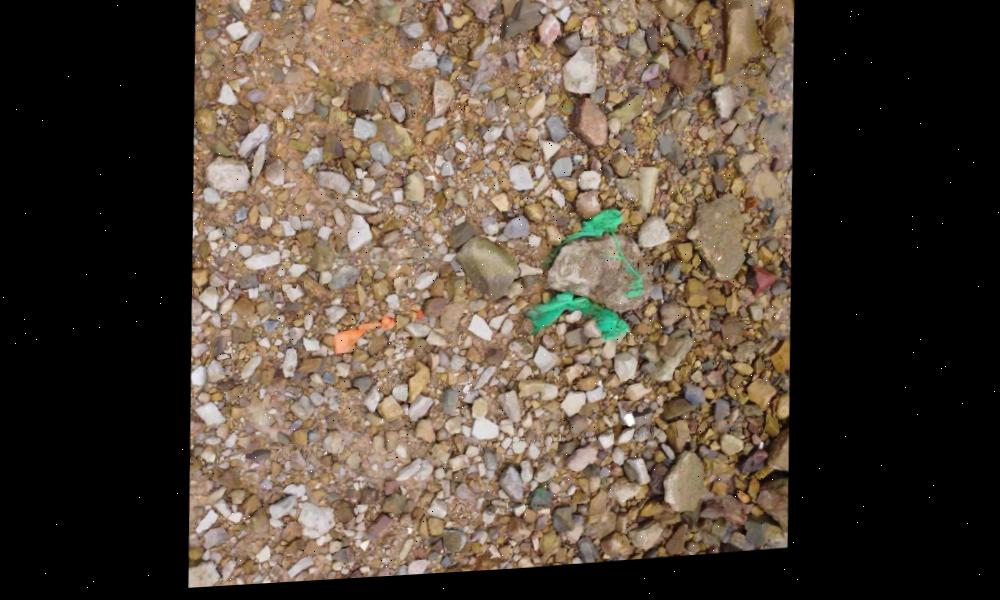plastic bag: (534, 297, 638, 348)
